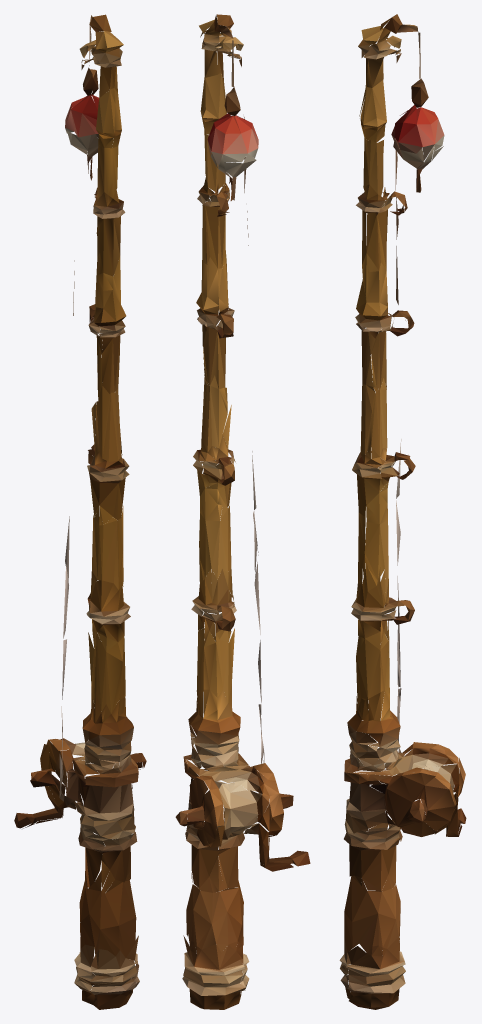
The model's file is fishingRod.glb.
The picture shows the model from 3 angles, left to right: view 1: azimuth 30°, elevation 25°; view 2: azimuth 210°, elevation 25°; view 3: azimuth 270°, elevation 25°; orthographic projection.
Parts seen in each view (by area): view 1: 0_fishingRod; view 2: 0_fishingRod; view 3: 0_fishingRod.
Boxes of the visible parts, x1=… form: 0_fishingRod: x1=14, y1=14, x2=146, y2=1009; 0_fishingRod: x1=175, y1=14, x2=310, y2=1009; 0_fishingRod: x1=339, y1=14, x2=466, y2=1009.
Bounding box in the file's own units: 0.1422 × 1.22 × 0.1433.
